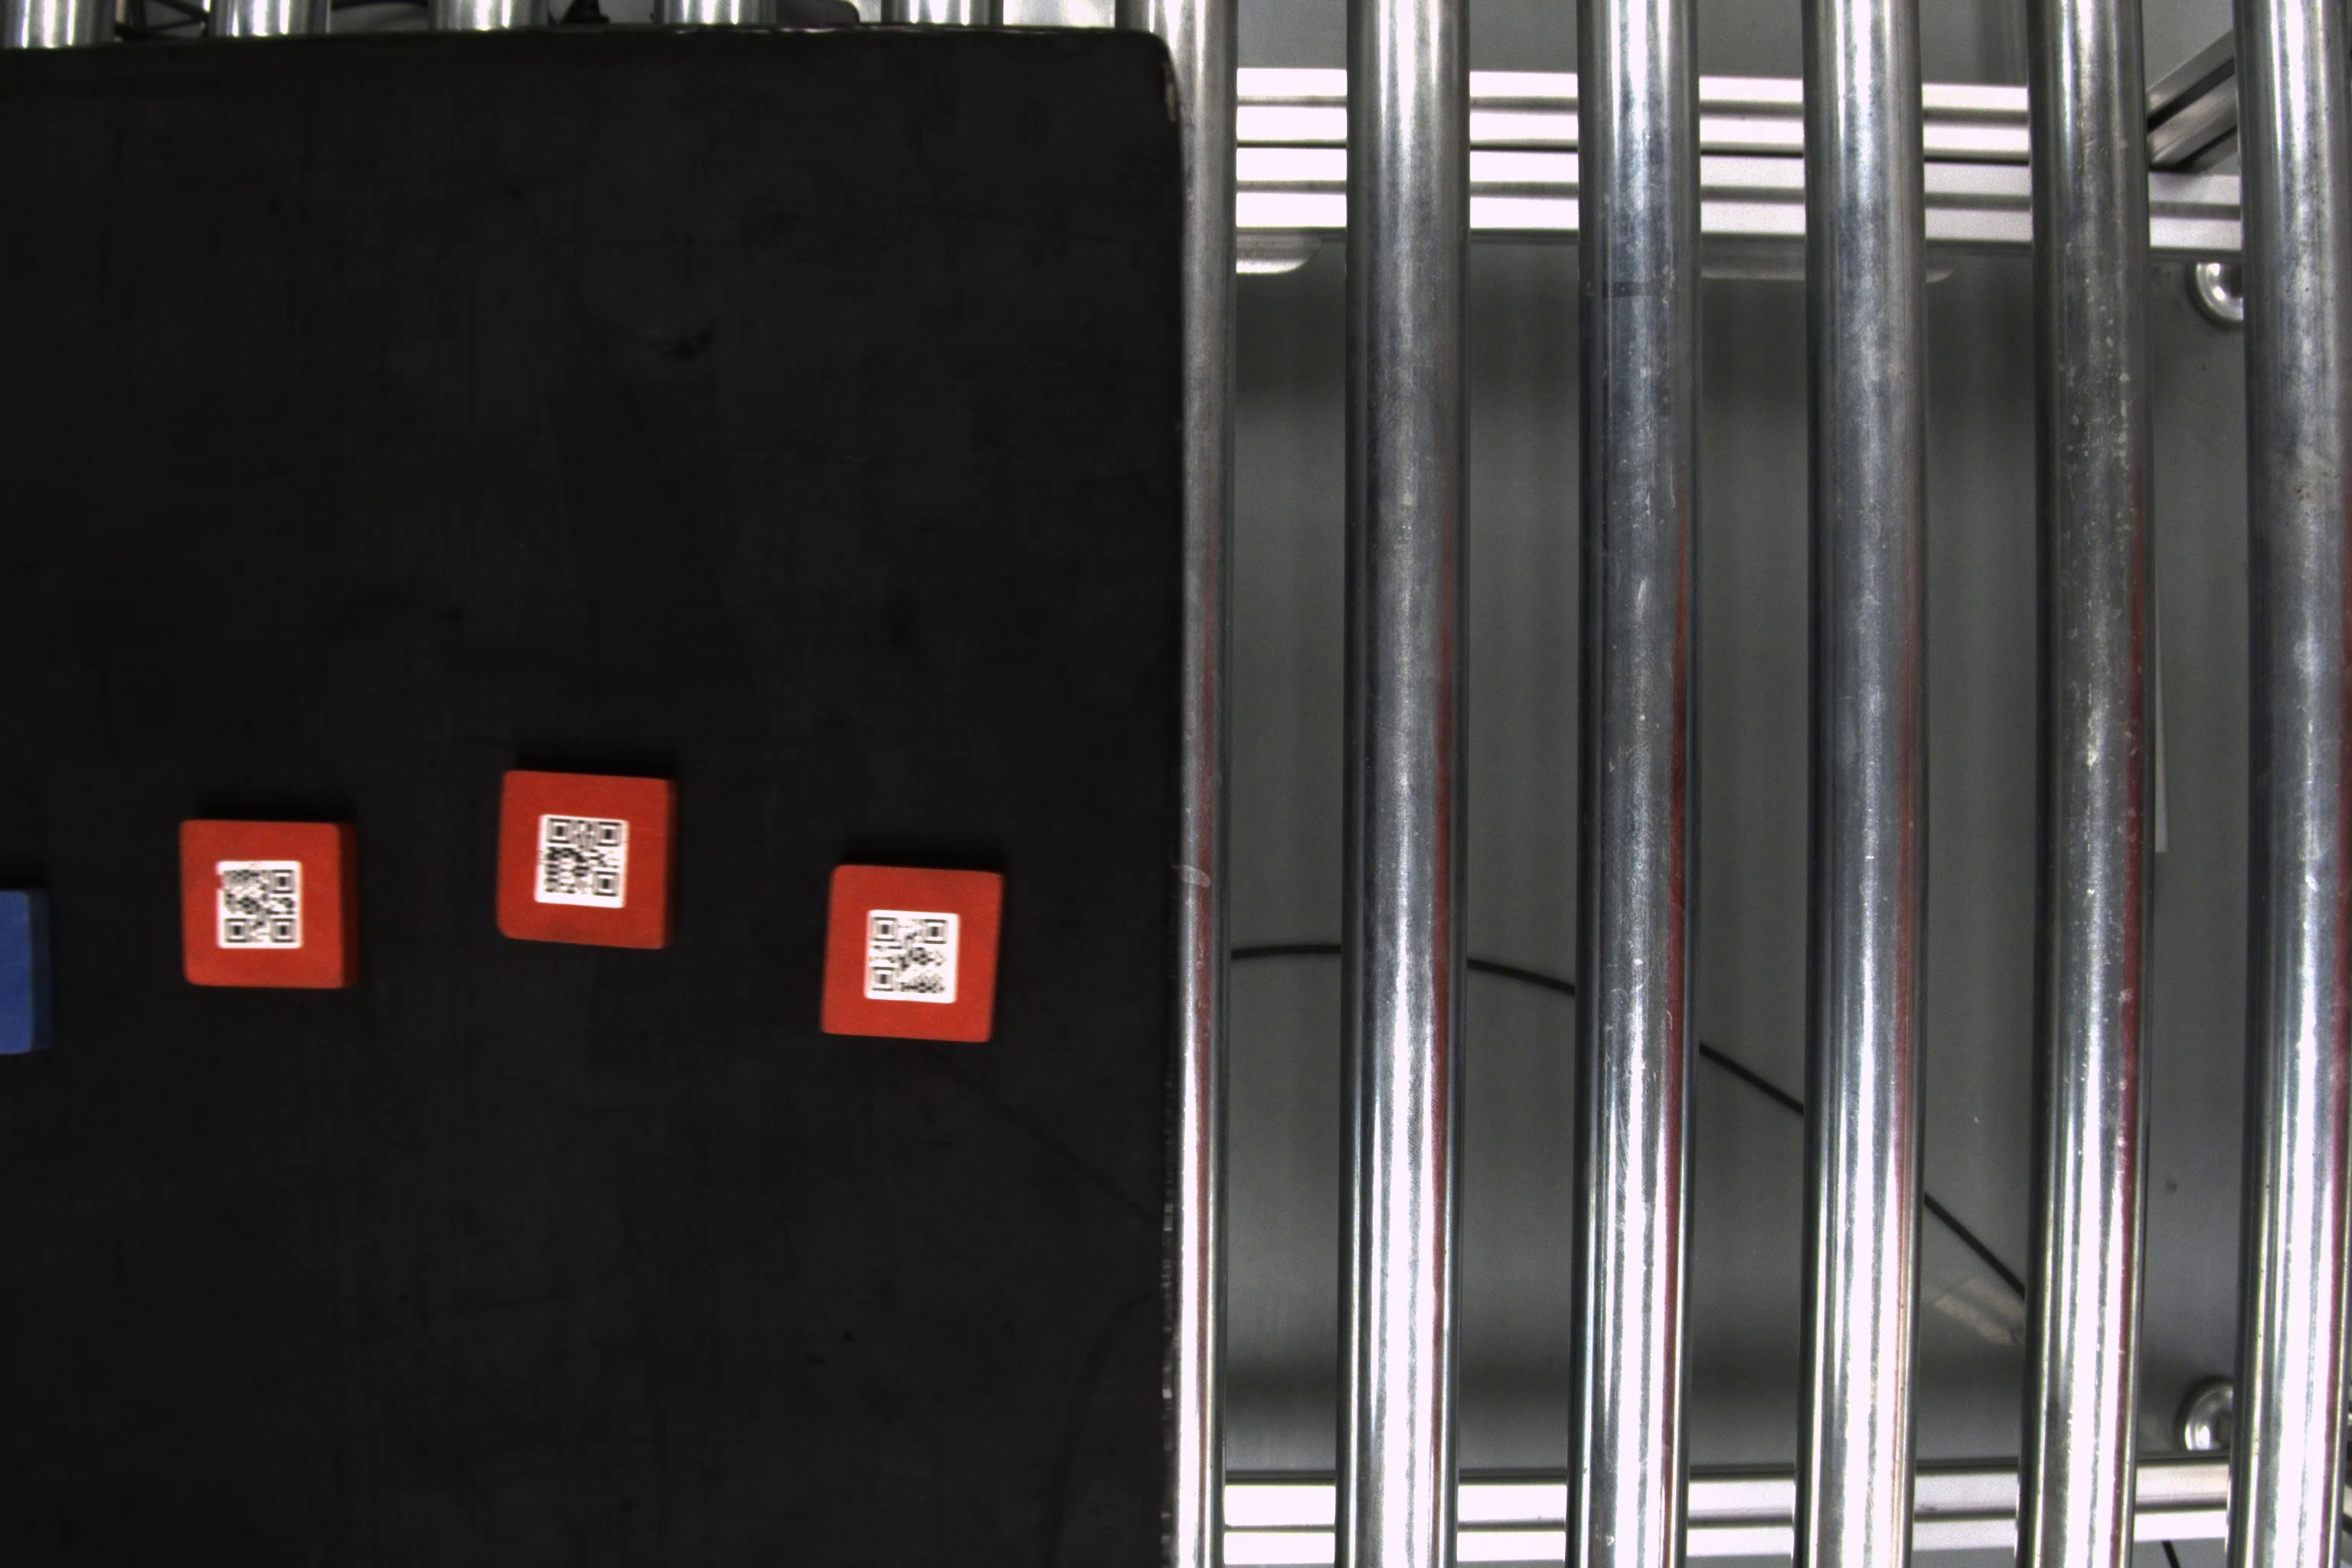wood: (814, 856, 1010, 1053), (170, 817, 373, 996), (499, 759, 684, 952)
